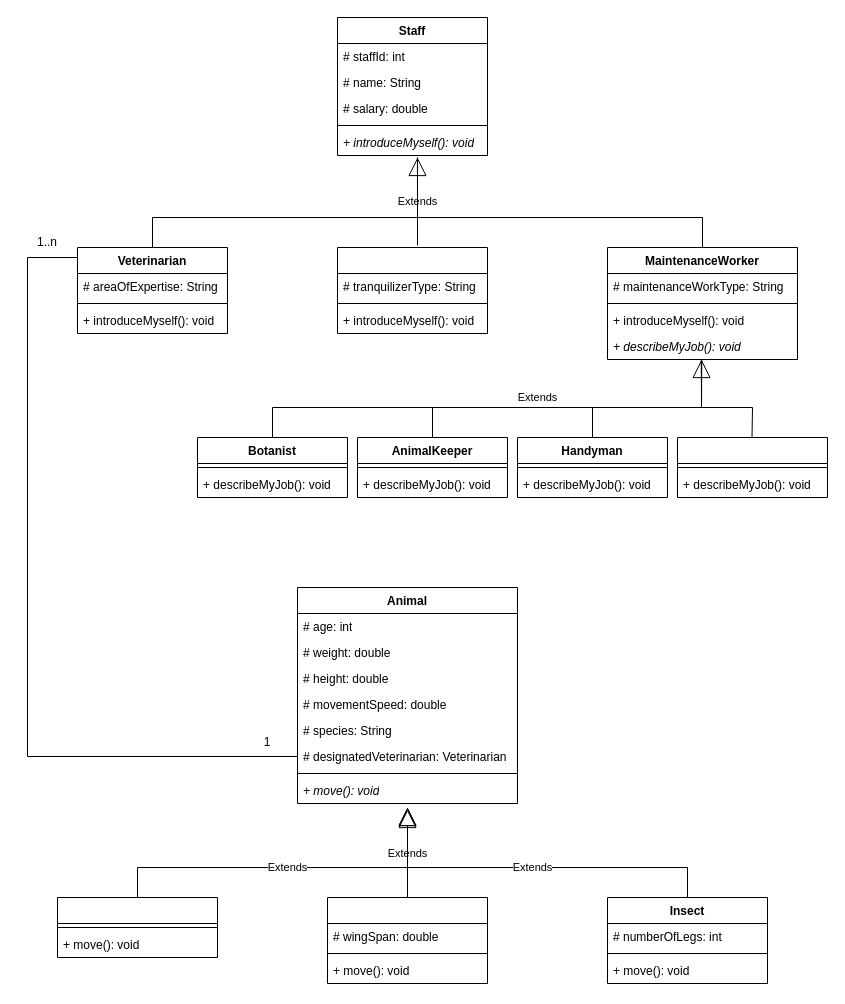
Some shapes in this 845 by 1004 pixel diagram are drawn without their labels. Here are the shapes that lost their labels. From the top down, the box of each, then its label:
(336, 246, 488, 334): Guard
(676, 436, 828, 498): Janitor
(56, 896, 218, 958): Mammal
(326, 896, 488, 984): Bird
